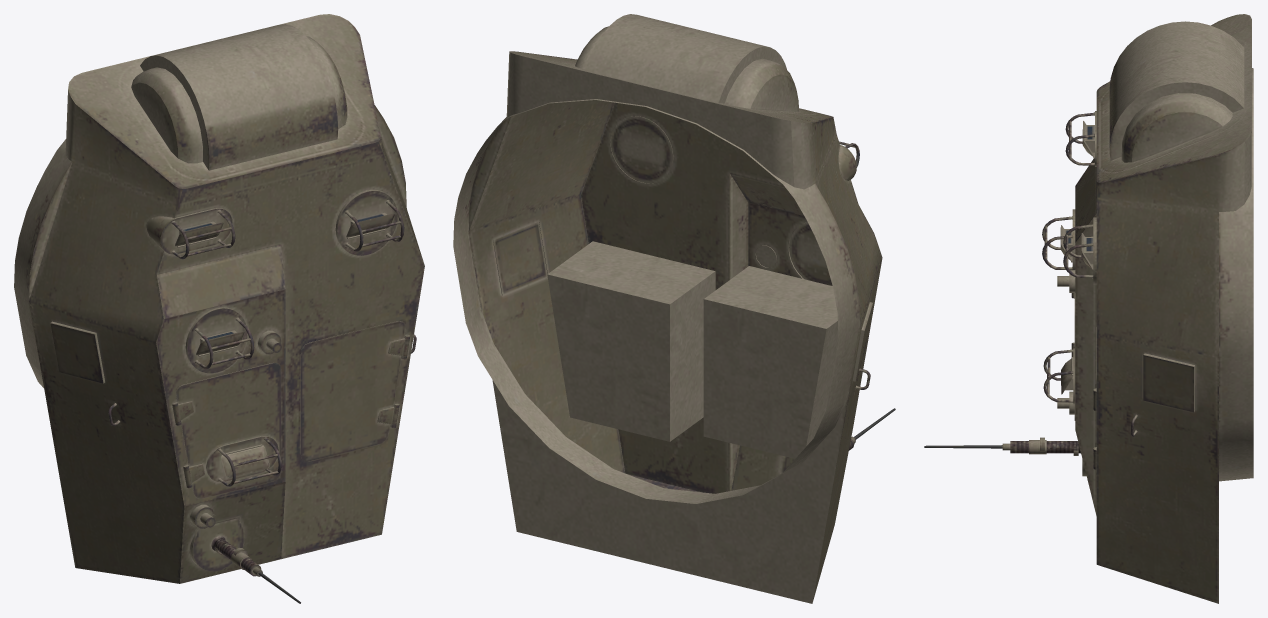
The model's file is Turret_01.glb.
3 renders of one model, left to right at view 1: azimuth 30°, elevation 25°; view 2: azimuth 150°, elevation 25°; view 3: azimuth 270°, elevation 25°, orthographic. The views are drawn at different scales.
Visible parts, largest first — view 1: set_0_group_0; view 2: set_0_group_0; view 3: set_0_group_0.
Part boxes in pixels (bbox=[...]): set_0_group_0: bbox=[14, 14, 424, 603]; set_0_group_0: bbox=[453, 14, 895, 603]; set_0_group_0: bbox=[924, 14, 1253, 603].
Size of the model in its own units: 1.77 by 2.24 by 1.38.
Materials: 1 (1 with a texture image).
